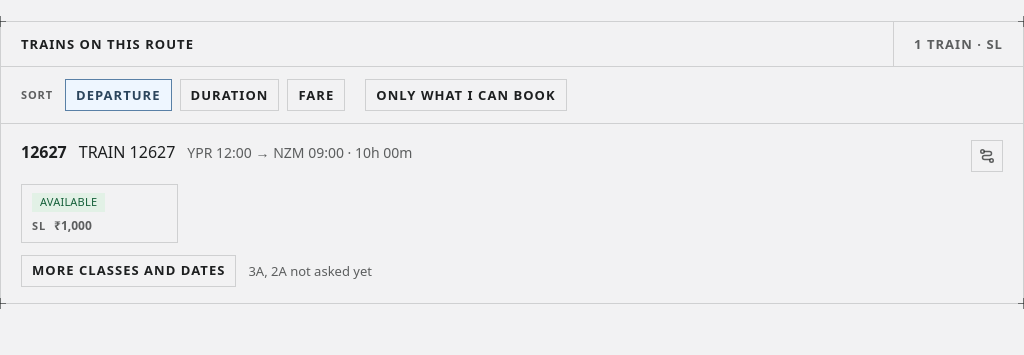
Scenario: opening a row › keeps the row and says so when the whole expand is refused
The width and height of the screenshot is (1024, 355).
What coordinates should you click on to do the following:
click the button "More classes and dates"
I would click on:
 (129, 270)
Its box is [21, 254, 236, 286].
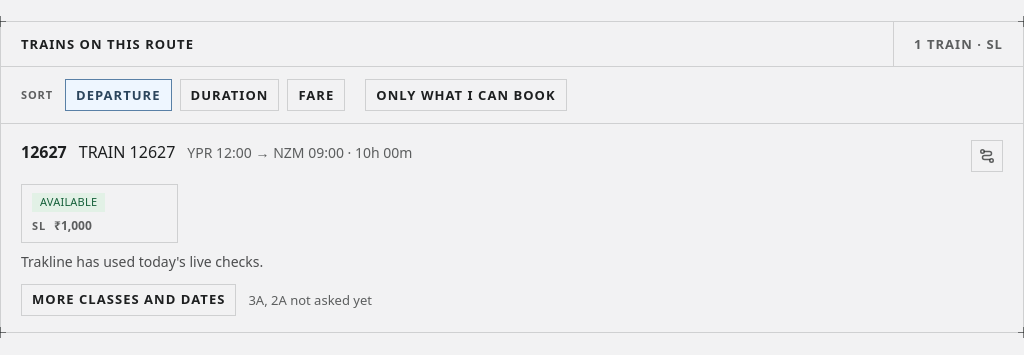
Expected: the number of elements with test id "class-block" is 1, [21, 184, 178, 242]
Expected: the text "Trakline has used today's live checks." is shown, [21, 252, 263, 270]
